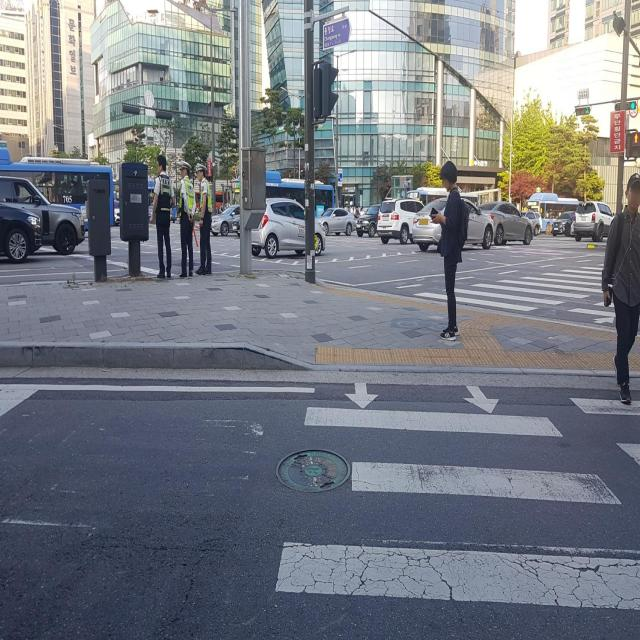횡단보도: (272, 378, 640, 614), (411, 262, 614, 330)
